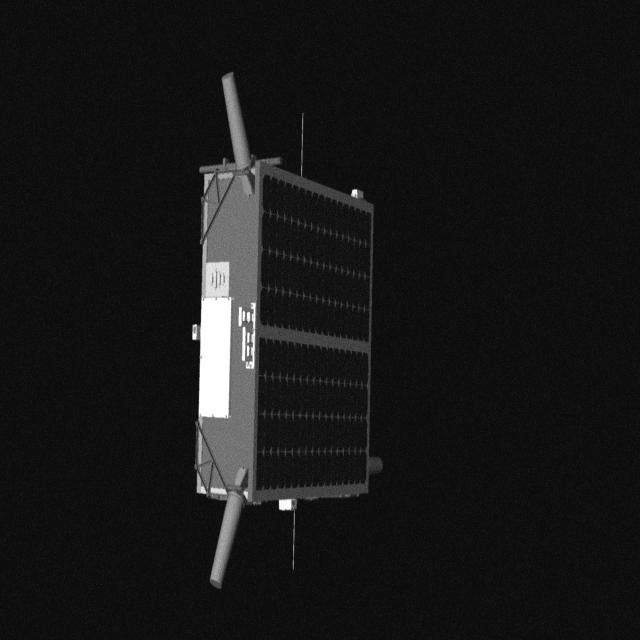medium_debris: (172, 66, 388, 588)
